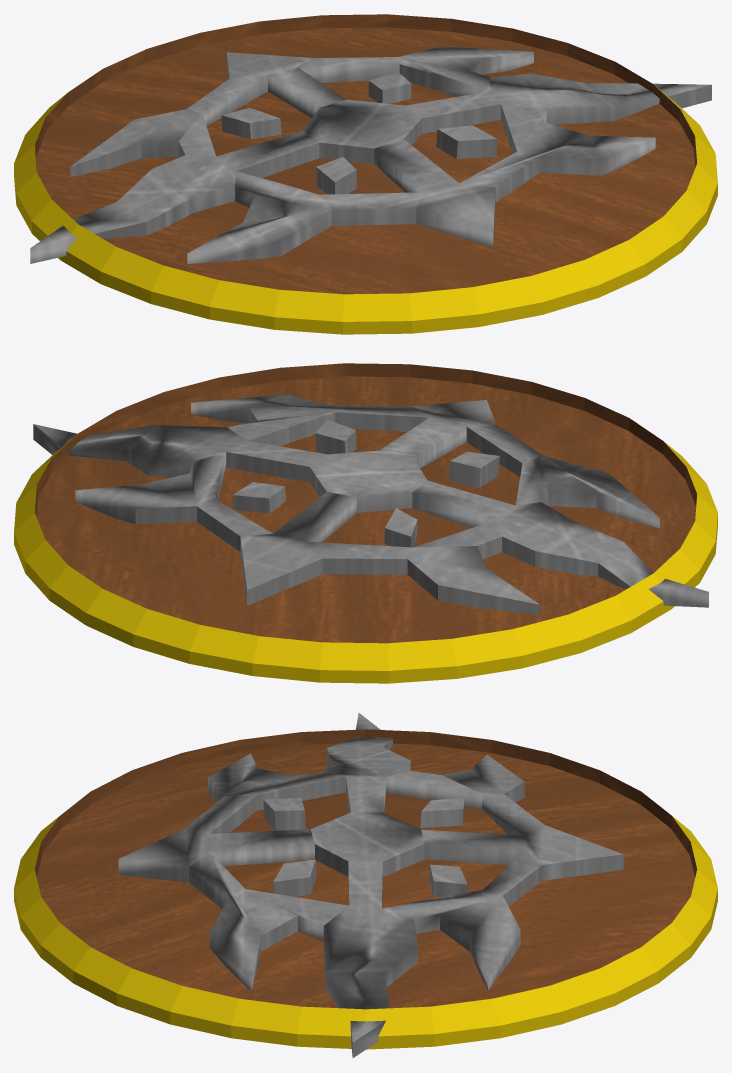
Rendered from EscudosVinicius3.fbx.
The picture shows the model from 3 angles, top to bottom: view 1: azimuth 30°, elevation 25°; view 2: azimuth 150°, elevation 25°; view 3: azimuth 270°, elevation 25°; orthographic projection.
Visible parts, largest first — view 1: Plane; view 2: Plane; view 3: Plane.
Part boxes in pixels (box(x1,y1,x2,y2)): Plane: box(14, 14, 717, 334); Plane: box(14, 363, 717, 683); Plane: box(14, 713, 717, 1057).
Size of the model in its own units: 499 by 68.91 by 449.
